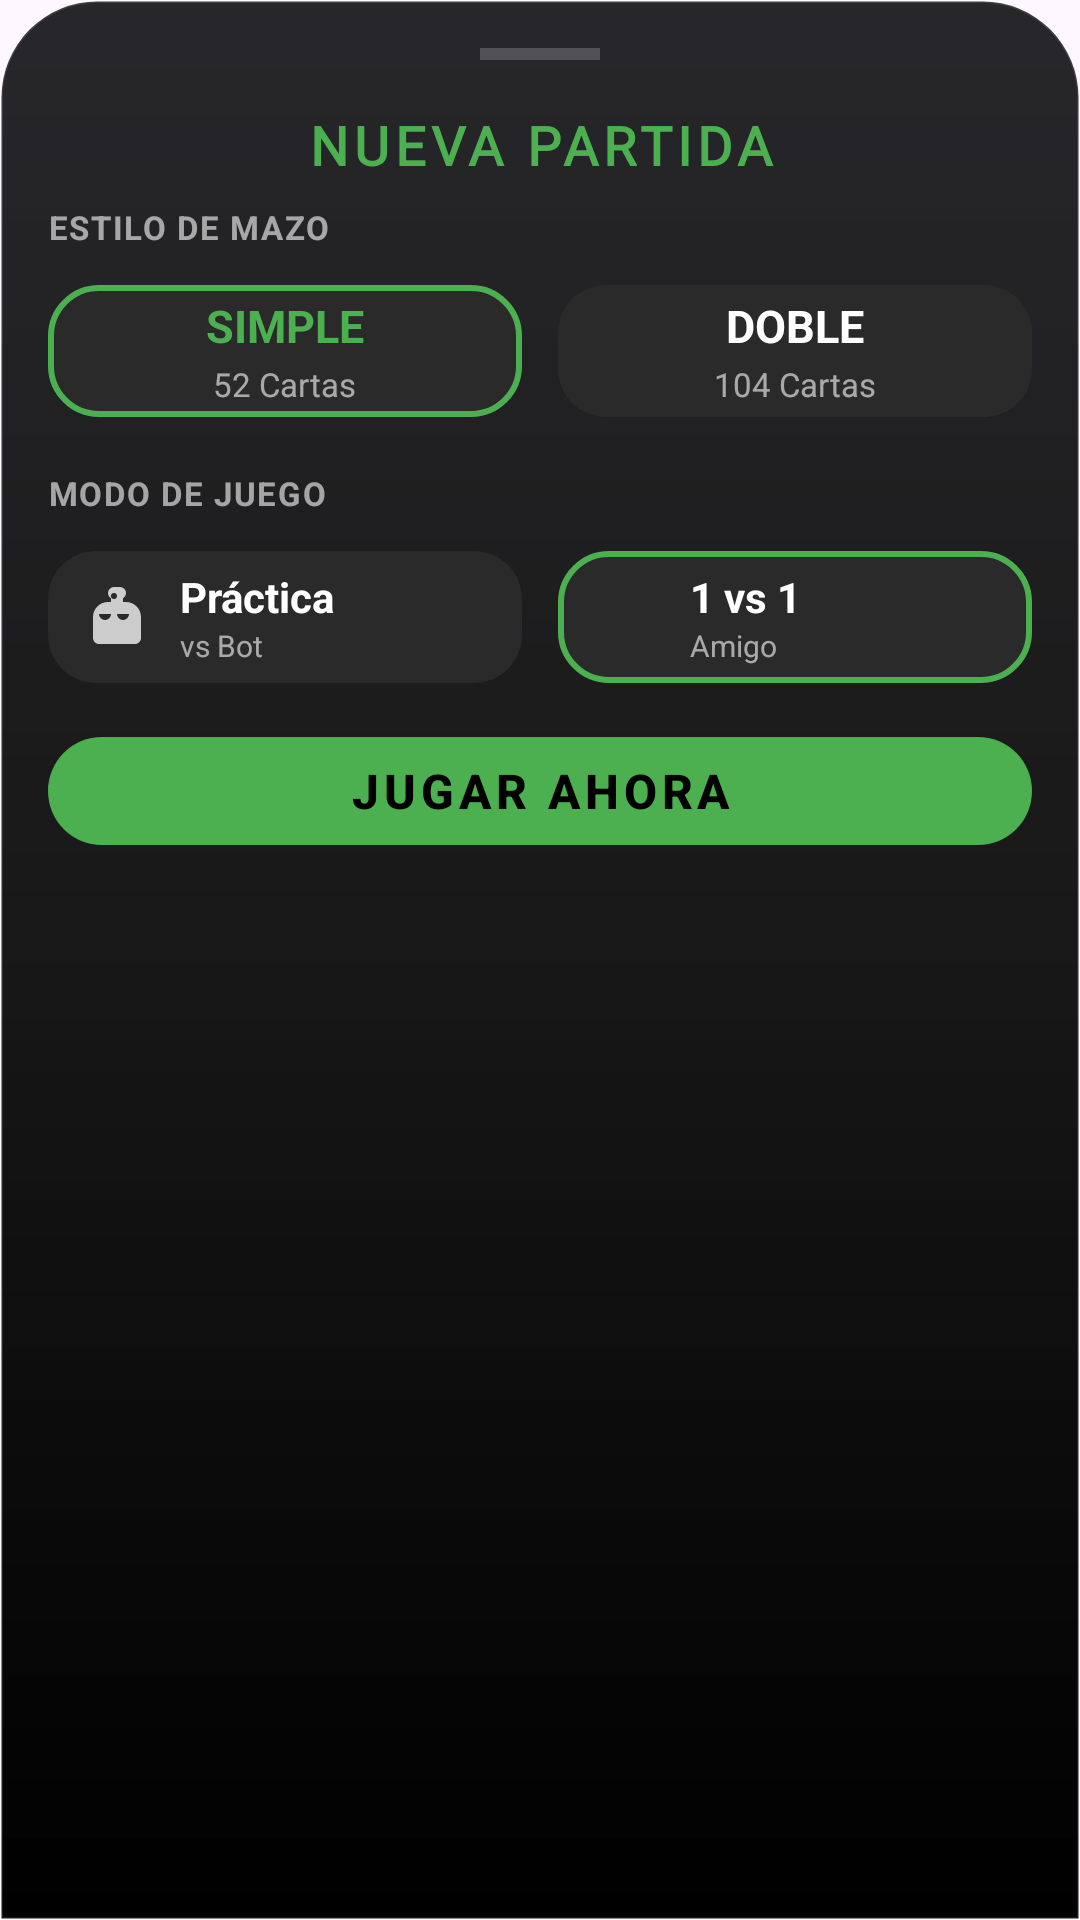

Icon bounding boxes for this 1080*1920 phone screenshot, format (x1, y1, x2, y2):
robot face: (93, 587, 141, 644)
